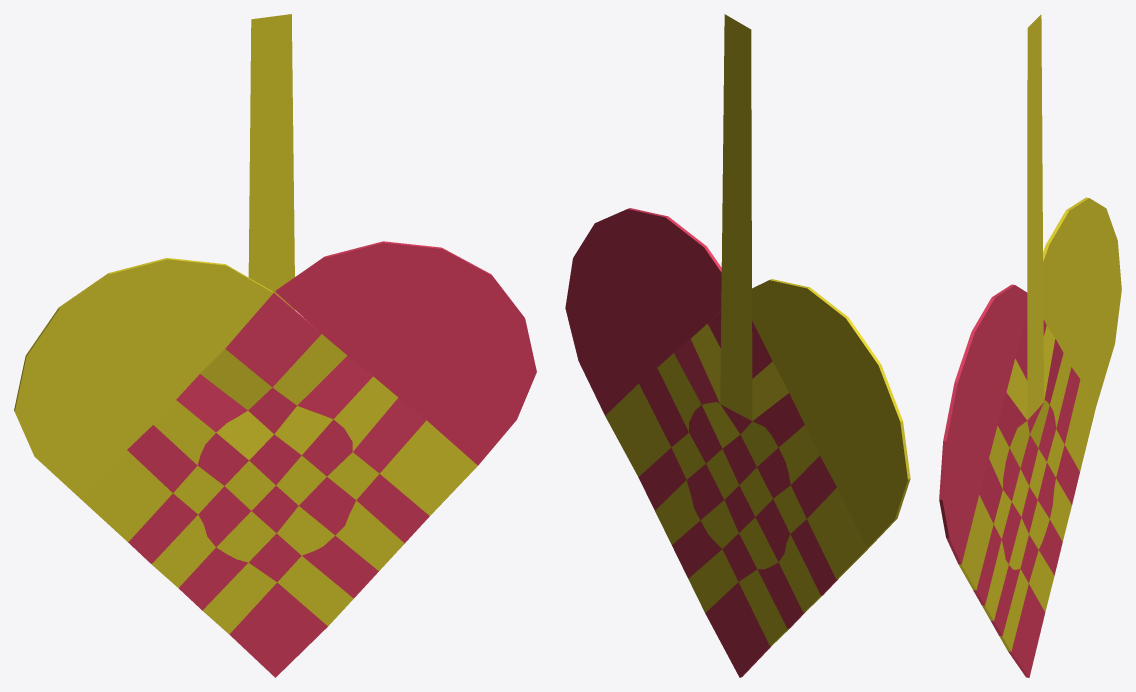
The model's file is heart3.glb.
3 views of the same model, side by side, from view 1: azimuth 30°, elevation 25°; view 2: azimuth 150°, elevation 25°; view 3: azimuth 270°, elevation 25° (orthographic).
Visible parts, largest first — view 1: heart3; view 2: heart3; view 3: heart3.
Part boxes in pixels (left/top/right/bottom): heart3: left=14, top=14, right=536, bottom=677; heart3: left=565, top=14, right=910, bottom=677; heart3: left=939, top=14, right=1121, bottom=677.
Size of the model in its own units: 0.1288 by 0.1872 by 0.0471.
